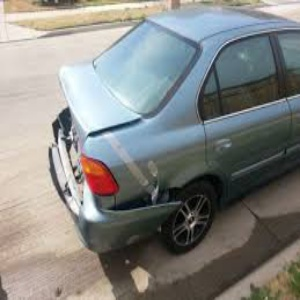bumper: (189, 201, 270, 280)
